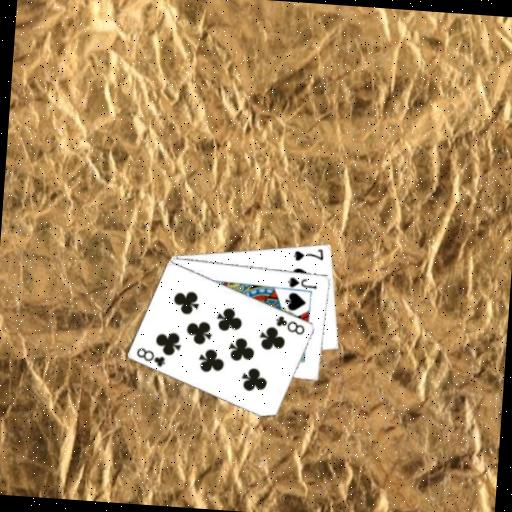7S: (291, 244, 326, 264)
8C: (133, 344, 169, 369), (273, 313, 308, 337)
JS: (285, 274, 319, 291)
